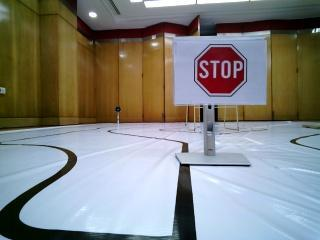stop: (178, 43, 258, 100)
